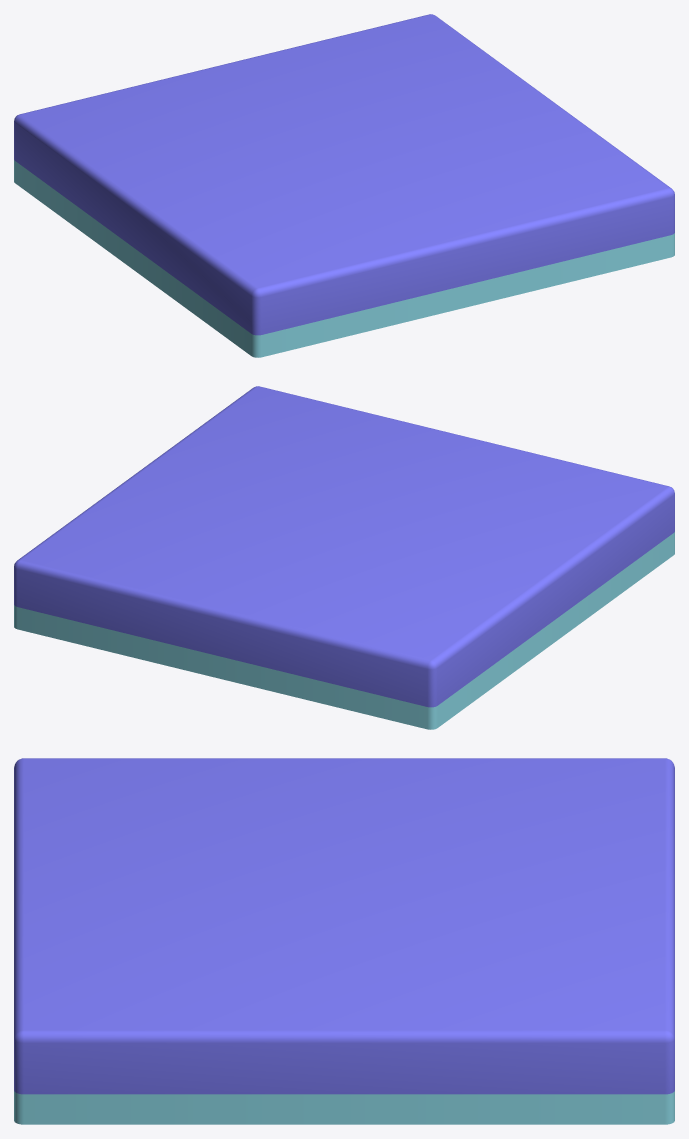
Rendered from Stand_02.FBX.
3 views of the same model, one above another, from view 1: azimuth 30°, elevation 25°; view 2: azimuth 150°, elevation 25°; view 3: azimuth 270°, elevation 25° (orthographic). The views are drawn at different scales.
Visible parts, largest first — view 1: Stand_02, Neon_01; view 2: Stand_02, Neon_01; view 3: Stand_02, Neon_01.
Part boxes in pixels (left/top/right/bottom): Stand_02: left=14, top=14, right=674, bottom=335; Neon_01: left=14, top=160, right=674, bottom=357; Stand_02: left=14, top=386, right=674, bottom=707; Neon_01: left=14, top=532, right=674, bottom=729; Stand_02: left=14, top=758, right=674, bottom=1094; Neon_01: left=14, top=1091, right=674, bottom=1124.
Size of the model in its own units: 2 by 0.3018 by 2.
2 materials, 1 textured.
